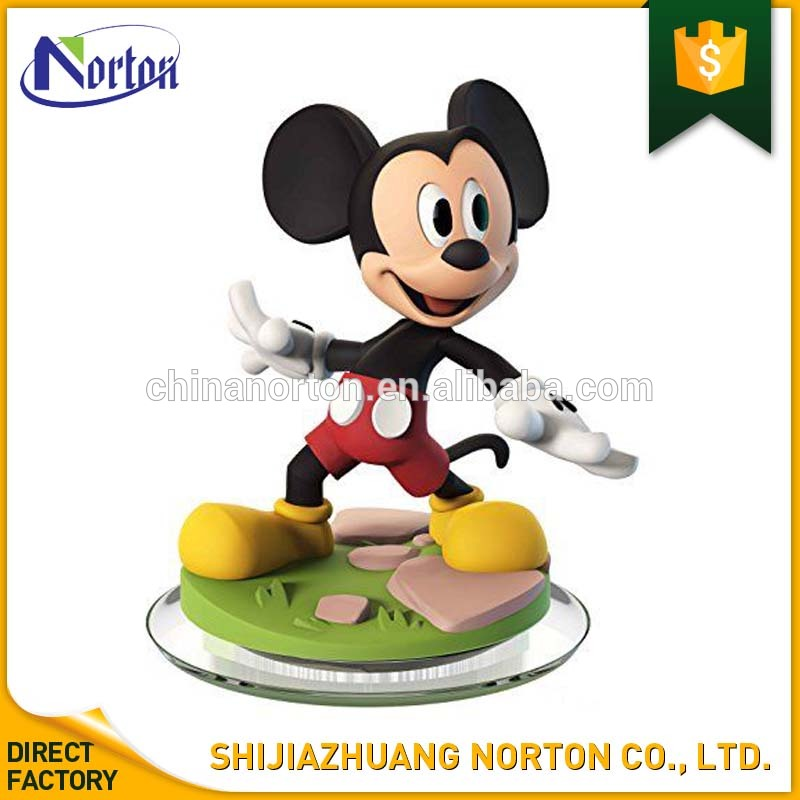Mickey: (259, 78, 555, 329)
